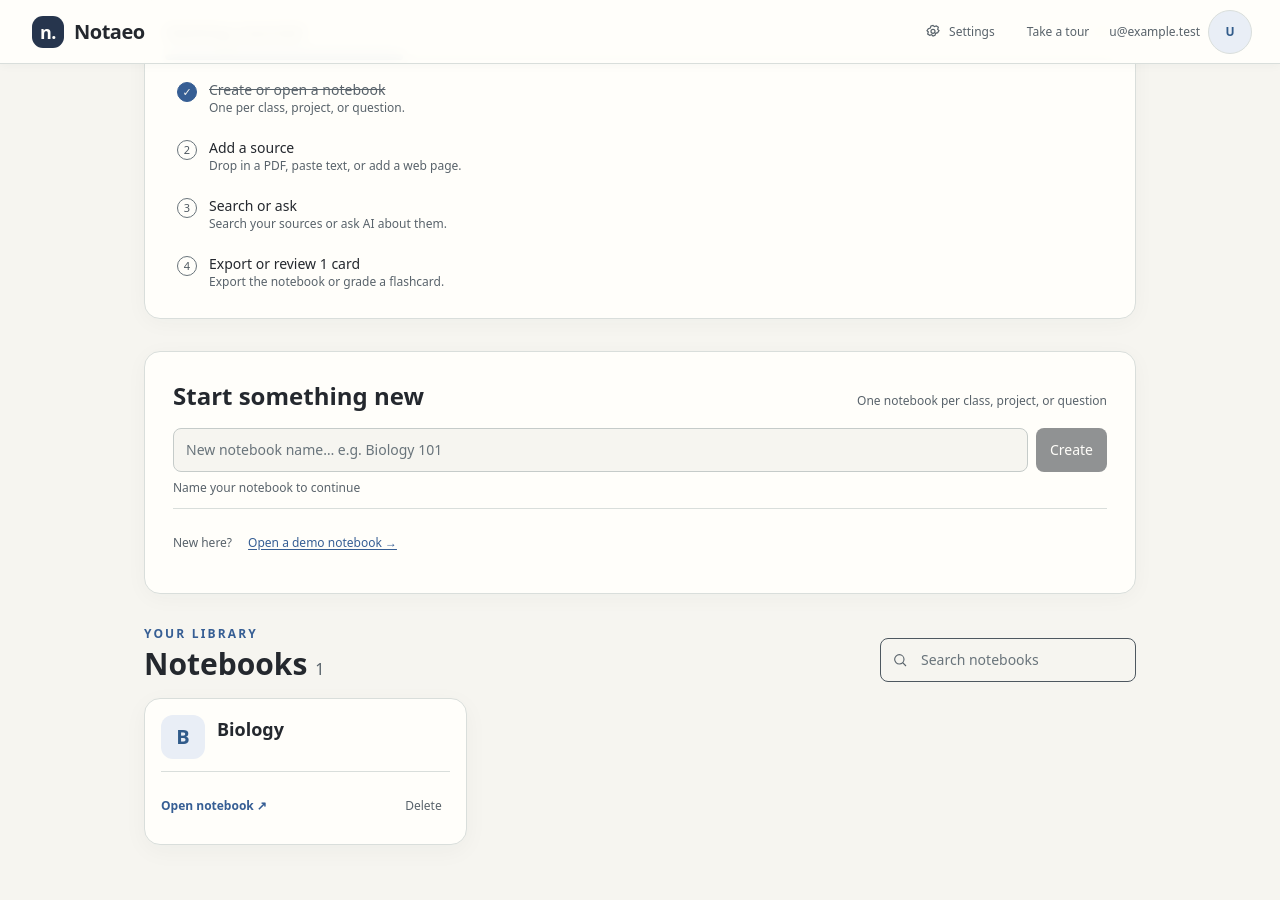
Test case: post-export focus lands on the Export control even though it disables mid-flight
(page scrolled)
Click the button with aria-label "Open Biology": [183, 737] box [161, 715, 450, 759]
(page scrolled)
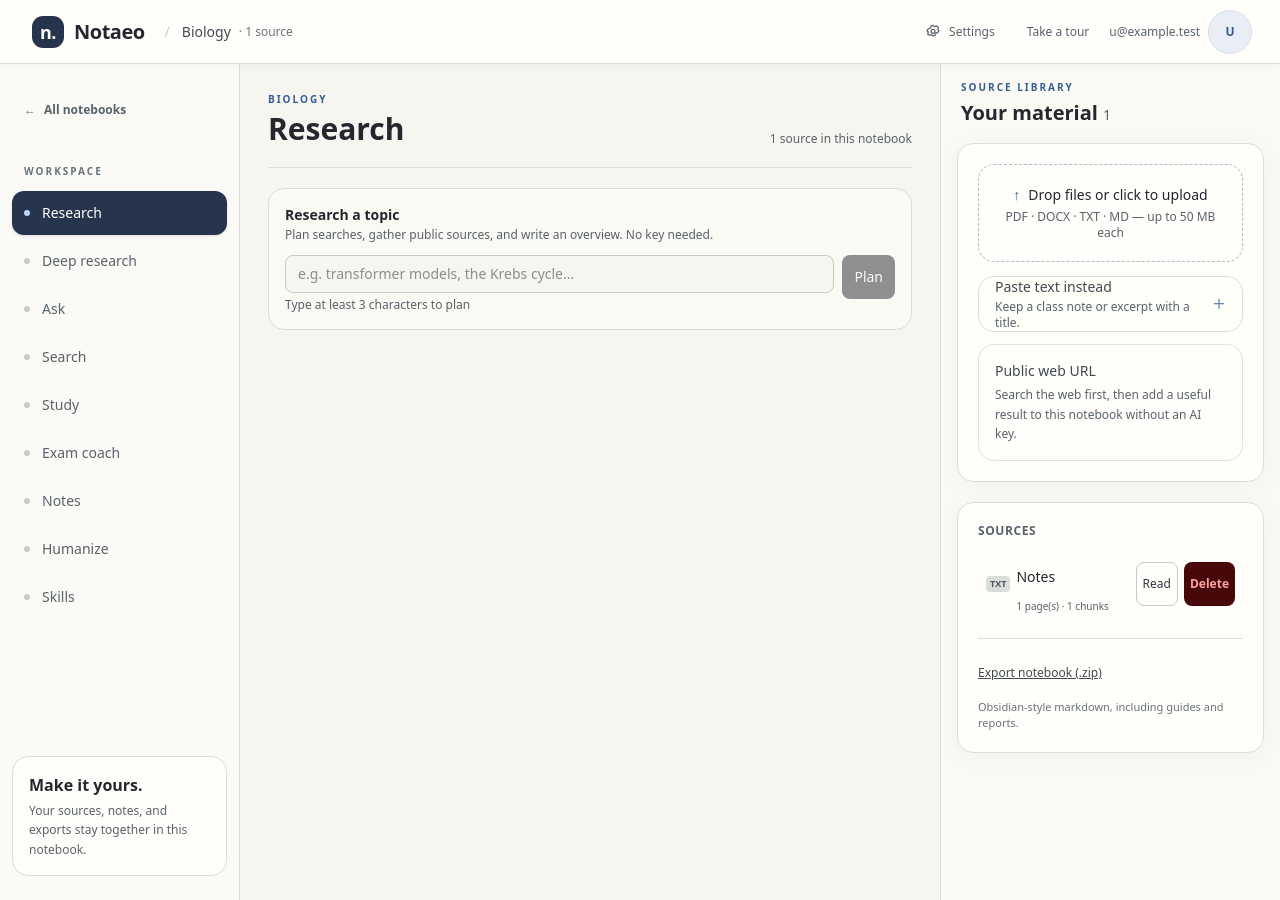
Click the button "Export notebook (.zip)": [1040, 672] box [978, 650, 1102, 694]
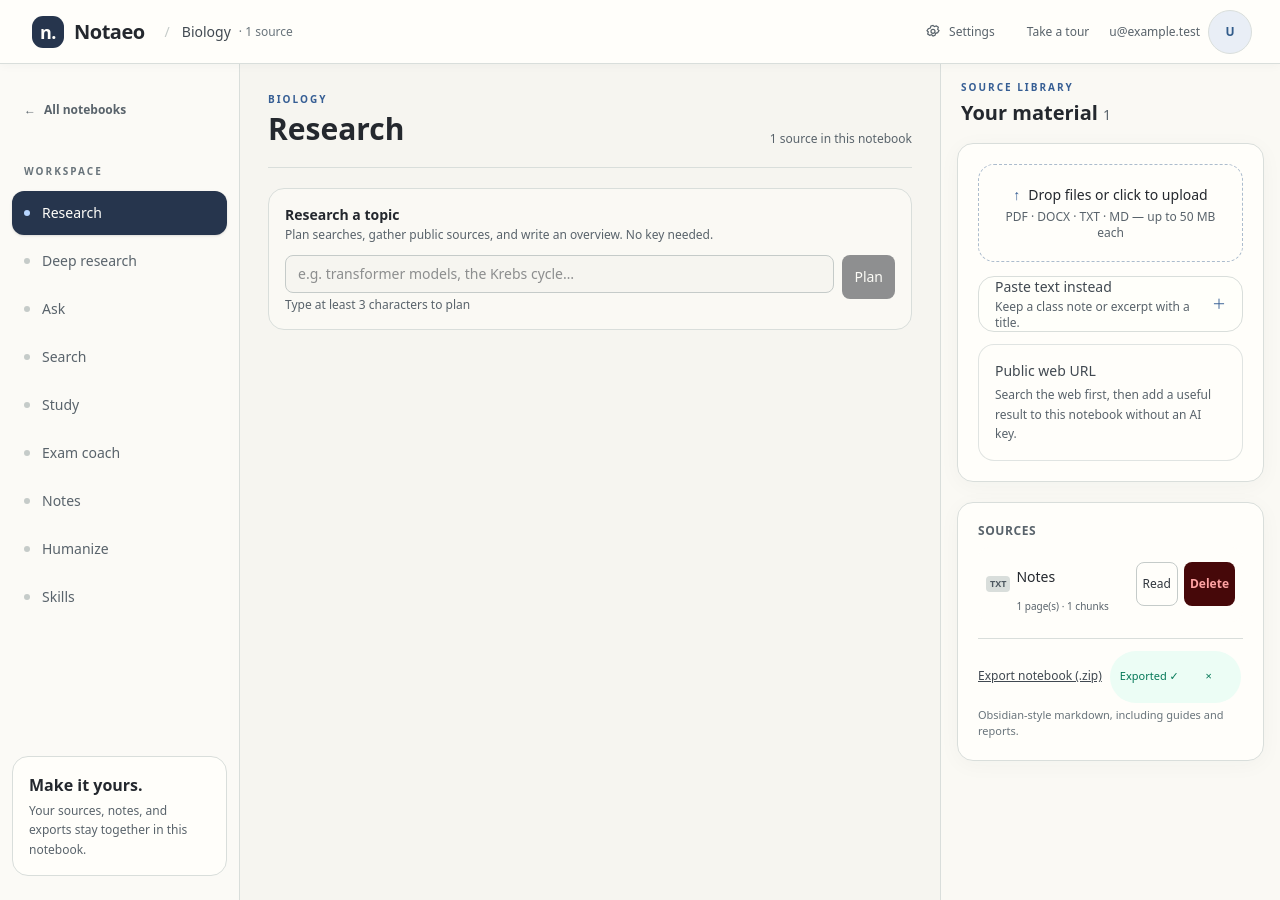
Expected: the button named "dismiss export confirmation" is shown, [1187, 654, 1231, 698]
